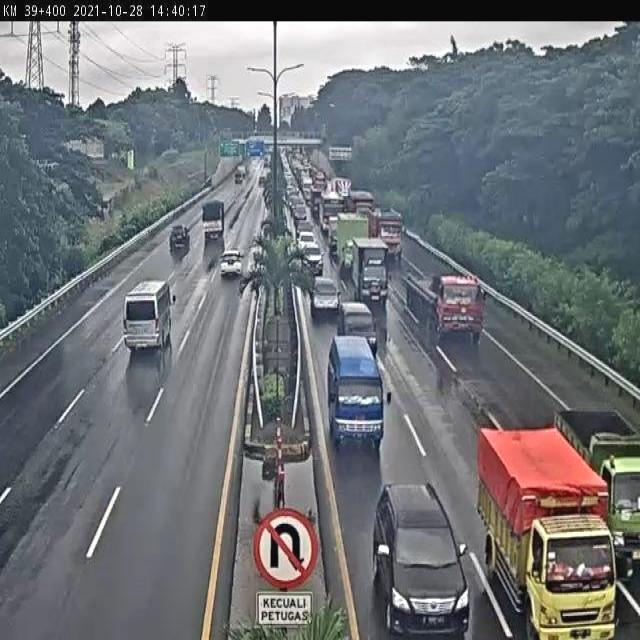Bus: (320, 190, 345, 237)
Car: (372, 483, 469, 636), (337, 300, 376, 350), (310, 275, 342, 322), (296, 230, 322, 272), (219, 248, 243, 278), (169, 224, 190, 253), (292, 206, 307, 228)
Truck: (478, 424, 627, 640), (553, 407, 640, 580), (403, 270, 485, 354), (344, 235, 389, 310), (334, 212, 370, 278), (370, 209, 404, 266), (201, 200, 225, 242)
Van: (326, 336, 384, 452), (123, 280, 174, 352)
